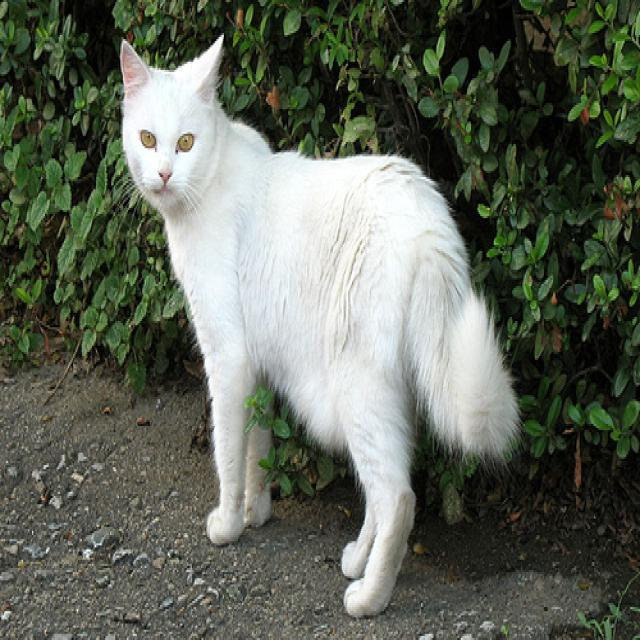cat: (116, 32, 523, 618)
